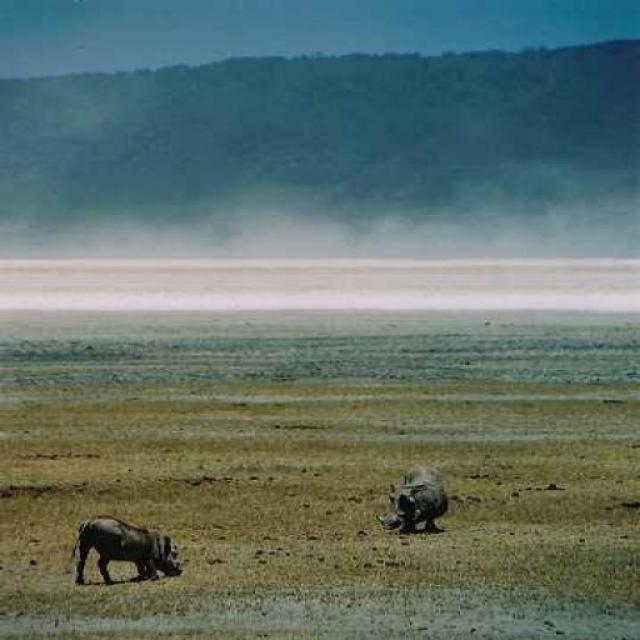pig: (348, 422, 467, 540), (75, 504, 210, 599)
